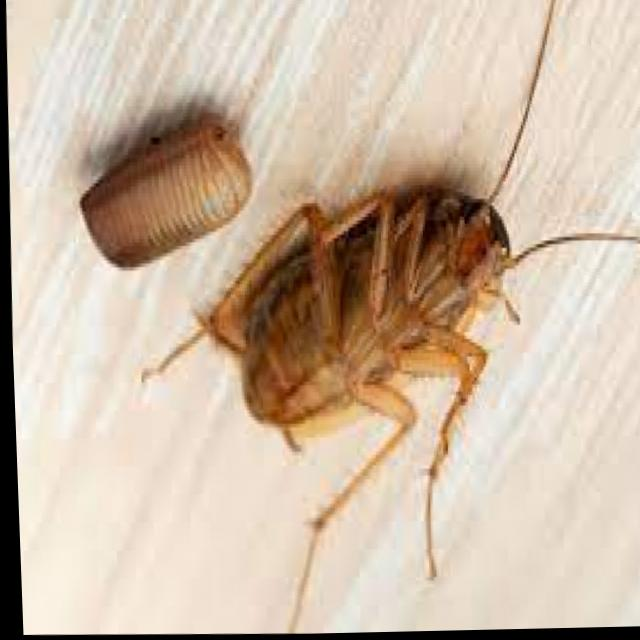Cockroach: (108, 24, 614, 638)
